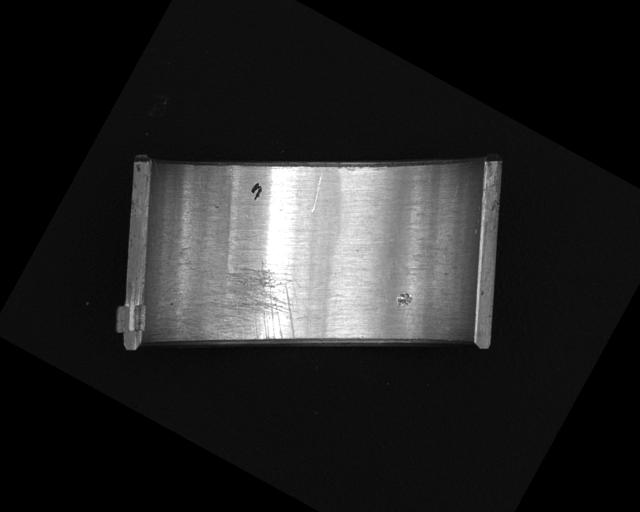blot: (246, 179, 265, 201)
bruise: (392, 288, 414, 312)
nick: (301, 169, 333, 213)
scratch: (177, 241, 319, 387)
